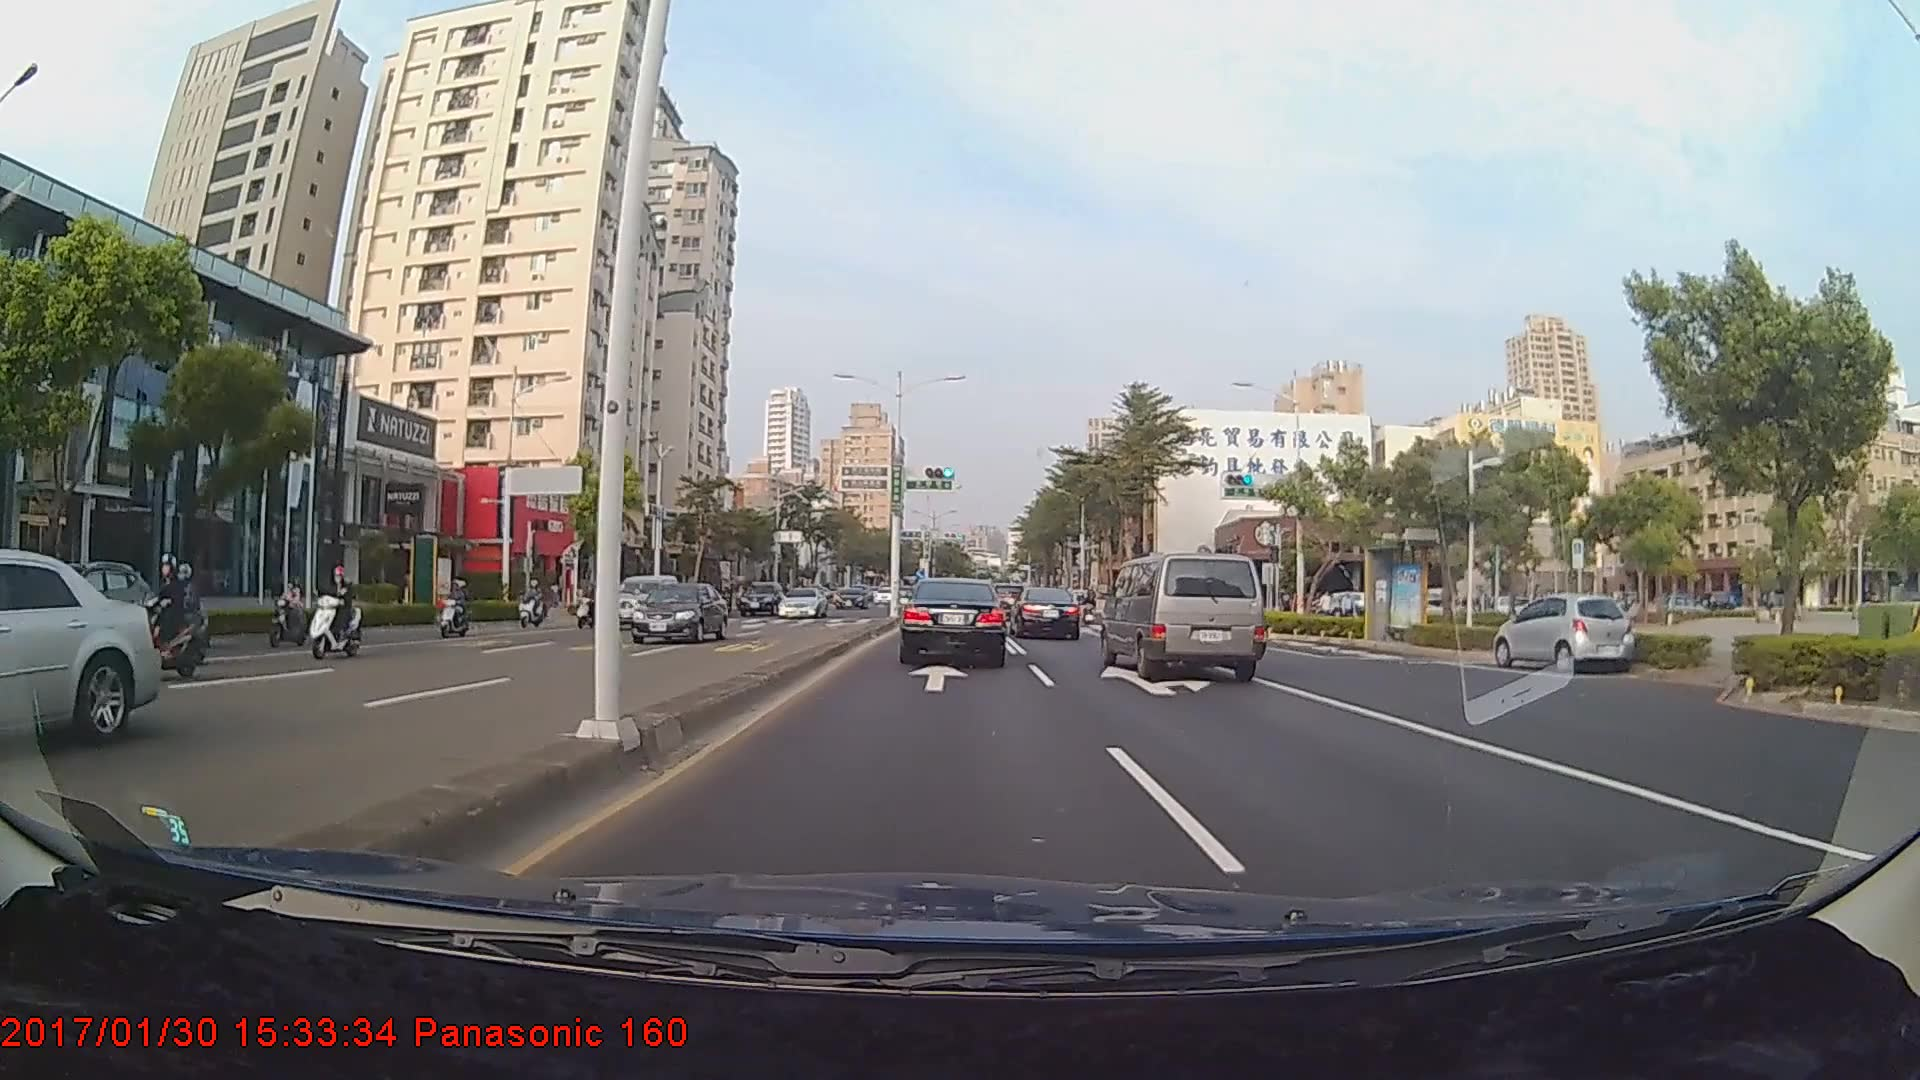rider: (124, 550, 207, 679), (301, 559, 372, 665), (264, 574, 317, 648), (437, 573, 474, 640)
vehicle: (0, 546, 163, 760), (1102, 547, 1266, 685), (1493, 592, 1631, 673), (900, 576, 1005, 667), (628, 579, 727, 645), (600, 571, 681, 632), (1007, 586, 1082, 641), (737, 577, 783, 615), (775, 584, 828, 615), (834, 584, 871, 610)
